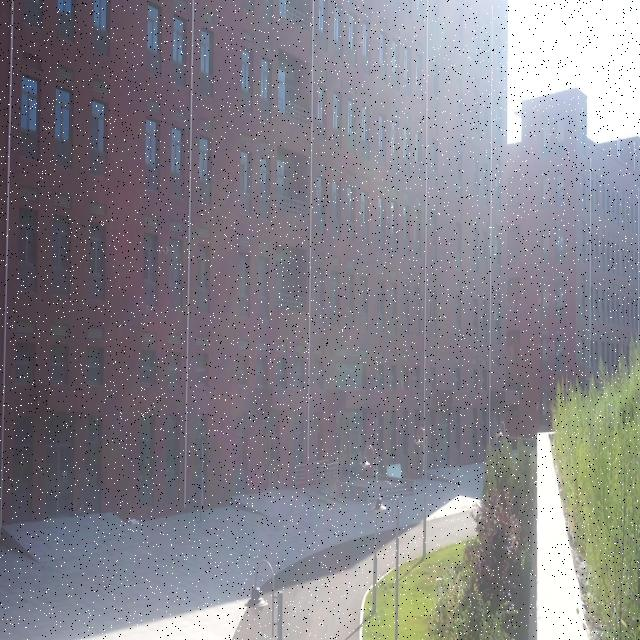UAV: (158, 245, 174, 254)
